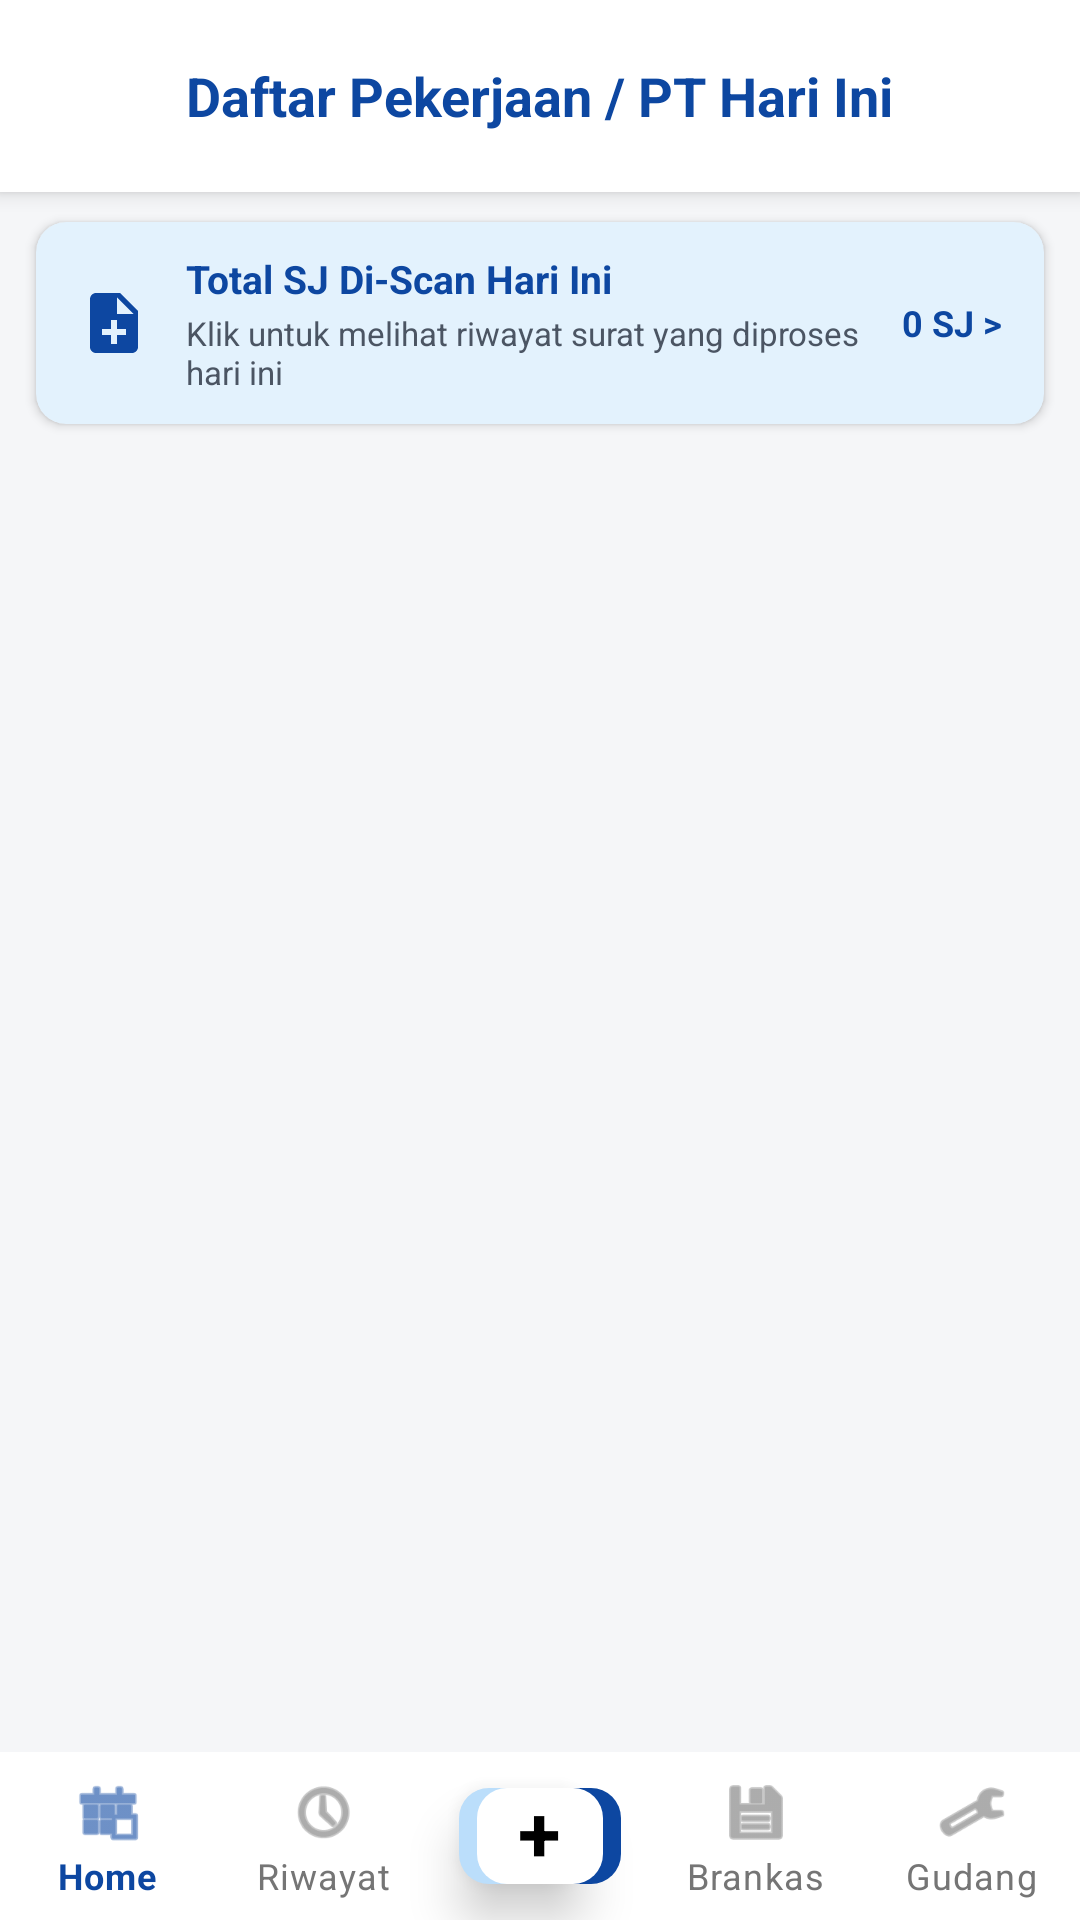

Where to tap for icons on this 1080w x 1920h app screen, as point (x, y):
Icon Surat Jalan: point (114, 323)
